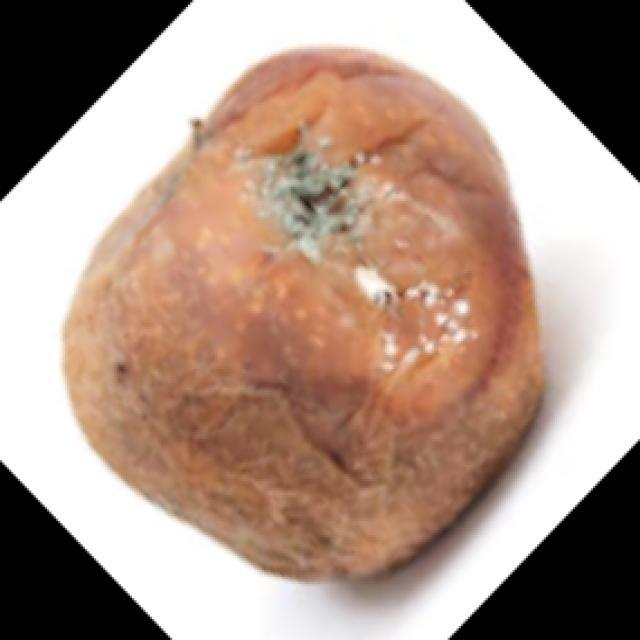Rotten: (97, 50, 540, 555)
